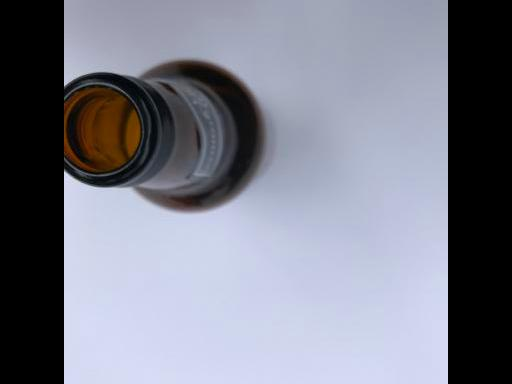alcohol: (65, 58, 268, 214)
glass: (65, 58, 268, 214)
sodocalcique: (65, 58, 268, 214)
